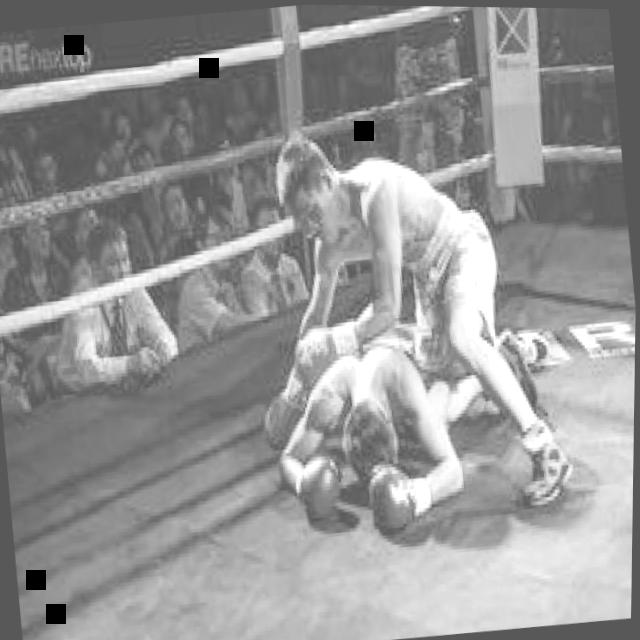Fall-Detected: (247, 265, 508, 553)
